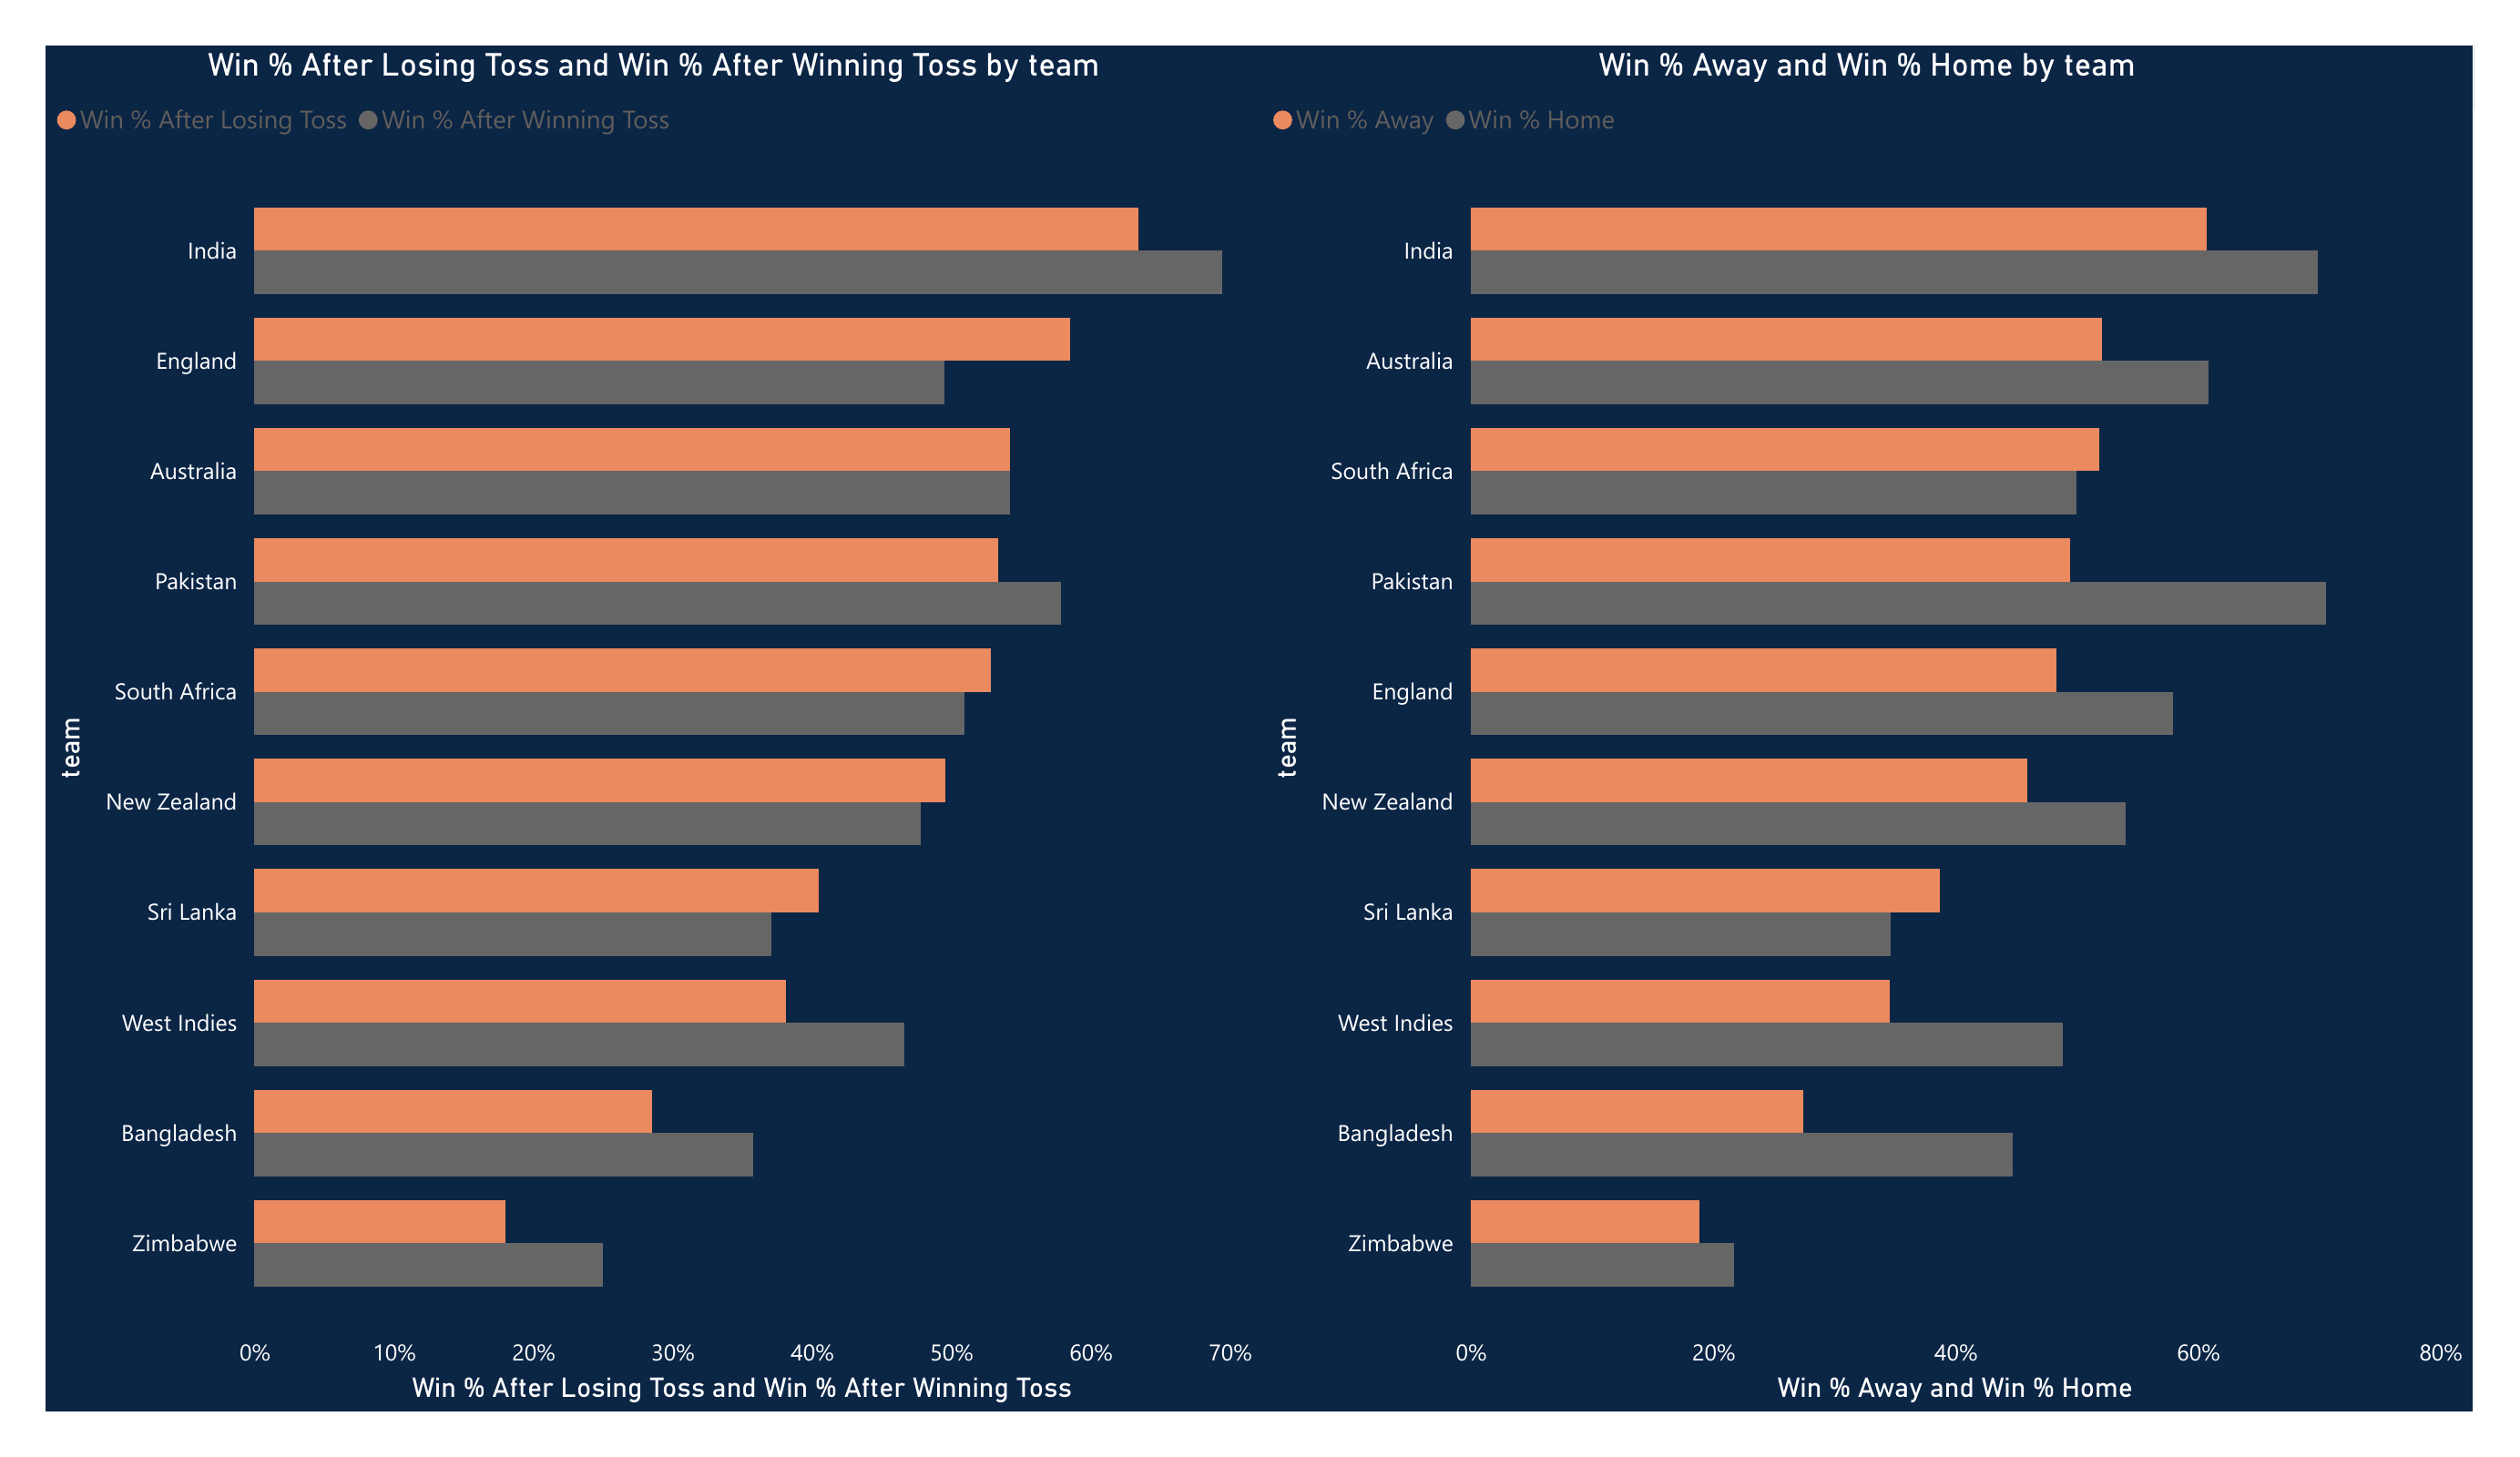

What the dashboard file says about the page in this screenshot:
{"tool":"powerbi","page":{"name":"Page 2","canvas":[1280,720],"ordinal":1},"visuals":[{"type":"clusteredBarChart","fields":{"Category":["team_matches.team"],"Y":["team_matches.Win % After Losing Toss","team_matches.Win % After Winning Toss"]},"box":[0,0,640.6,720],"z":0},{"type":"clusteredBarChart","fields":{"Category":["team_matches.team"],"Y":["team_matches.Win % Away","team_matches.Win % Home"]},"box":[640.6,0,638.7,720],"z":1000}]}

Visuals, with their boxes on the page's 1280x720 design canvas (x1, y1, x2, y2). These are canvas units, not pixel positions in the 2520x1457 screenshot, which may show the page scaled, cropped or inside an application window:
clusteredBarChart - team_matches.team x team_matches.Win % After Losing Toss: (0,0,641,720)
clusteredBarChart - team_matches.team x team_matches.Win % Away: (641,0,1279,720)
